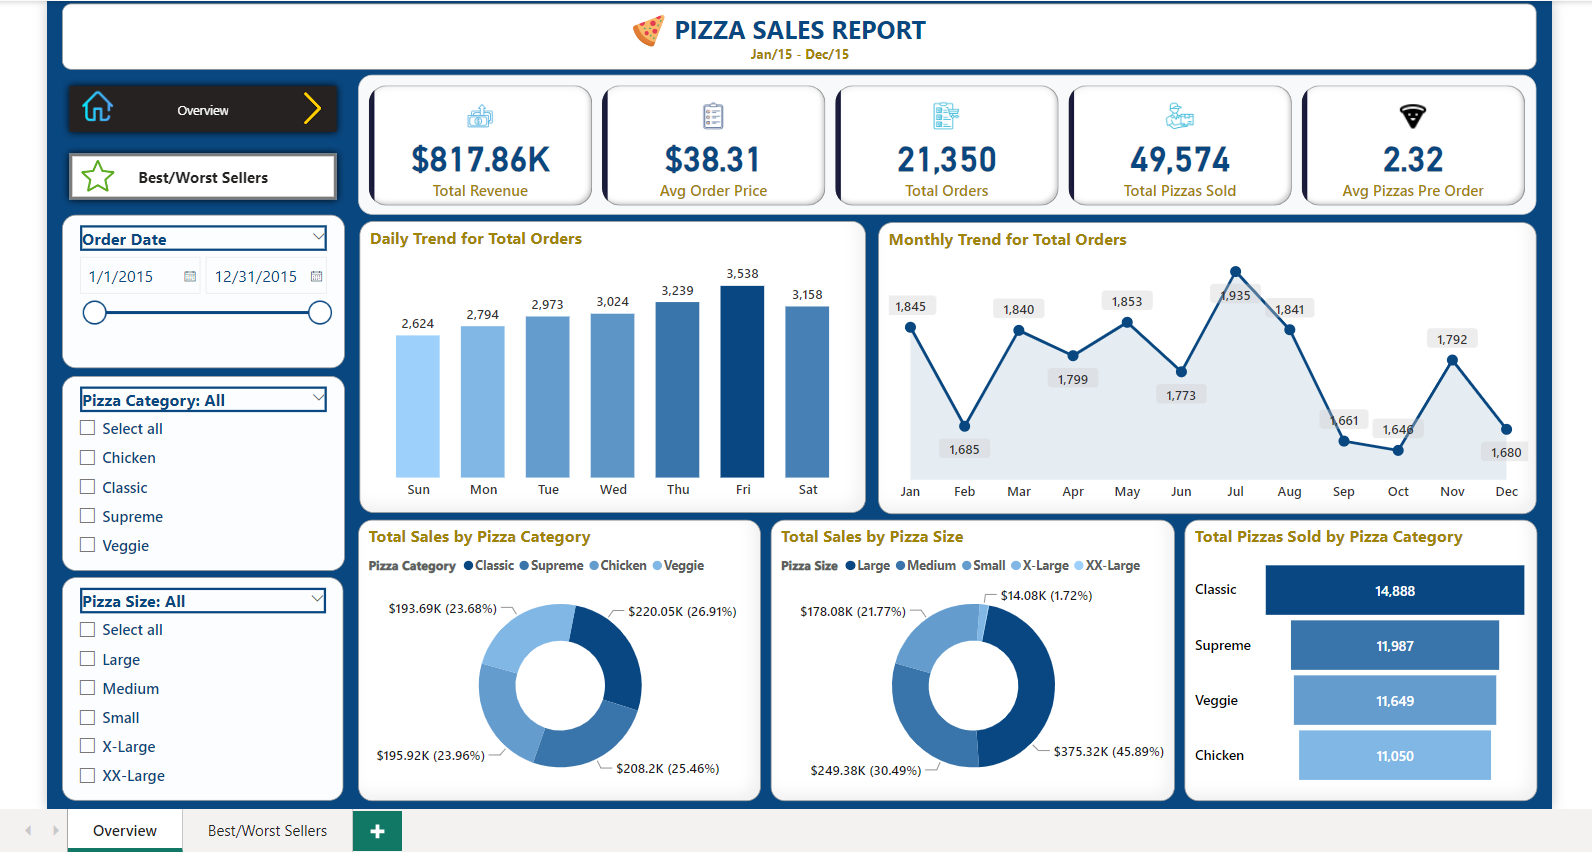

This screenshot's page, from the dashboard's own definition file:
{"tool":"powerbi","page":{"name":"Overview","canvas":[1600,860],"ordinal":0},"visuals":[{"type":"cardVisual","fields":{"Data":["Pizza Sales.Total Revenue","Pizza Sales.Avg Order Price","Pizza Sales.Total Orders","Pizza Sales.Total Pizzas Sold","Pizza Sales.Avg Pizzas Pre Order"]},"box":[331.4,78.8,1252.8,148.9],"z":0},{"type":"image","box":[944.7,264.3,54,45.3],"z":1000},{"type":"textbox","box":[16.1,3,1568.1,70],"z":2000},{"type":"clusteredColumnChart","title":"Daily Trend for Total Orders","fields":{"Category":["Pizza Sales.Order Day"],"Y":["Pizza Sales.Total Orders"]},"box":[332,234,538.2,310],"z":3000},{"type":"areaChart","title":"Monthly Trend for Total Orders","fields":{"Category":["Pizza Sales.Order Month"],"Y":["Pizza Sales.Total Orders"]},"box":[884,234.7,700,310],"z":4000},{"type":"donutChart","title":"Total Sales by Pizza Category","fields":{"Category":["Pizza Sales.Pizza Category"],"Y":["Pizza Sales.Total Revenue"]},"box":[331.4,551.9,427.8,299.3],"z":5000},{"type":"donutChart","title":"Total Sales by Pizza Size","fields":{"Category":["Pizza Sales.Pizza Size"],"Y":["Pizza Sales.Total Revenue"]},"box":[769.5,551.9,429.3,299.3],"z":6000},{"type":"funnel","title":"Total Pizzas Sold by Pizza Category","fields":{"Category":["Pizza Sales.Pizza Category"],"Y":["Pizza Sales.Total Pizzas Sold"]},"box":[1209,551.9,375.2,299.3],"z":7000},{"type":"slicer","fields":{"Values":["Pizza Sales.Pizza Category"]},"box":[16.1,398.6,300.8,207.3],"z":8000},{"type":"slicer","fields":{"Values":["Pizza Sales.Pizza Size"]},"box":[16.1,613.2,299.3,238],"z":9000},{"type":"slicer","fields":{"Values":["Pizza Sales.Order Date"]},"box":[16.1,227.8,300.8,163.5],"z":10000},{"type":"pageNavigator","box":[16.1,154,300,65],"z":11000},{"type":"pageNavigator","title":"Overview","box":[16.1,81.8,300.8,65.7],"z":12000},{"type":"image","box":[24.8,163.5,56.9,45.3],"z":13000},{"type":"image","box":[27.7,90.5,51.1,42.3],"z":14000},{"type":"image","box":[257,92,51.1,43.8],"z":15000},{"type":"image","box":[613.2,8.8,54,45.3],"z":16000}]}

Visuals, with their boxes in screenshot pixels (x1, y1, x2, y2):
cardVisual - Pizza Sales.Total Revenue x Pizza Sales.Avg Order Price: rect(355, 70, 1538, 211)
image: rect(934, 246, 985, 288)
textbox: rect(57, 0, 1538, 65)
"Daily Trend for Total Orders" clusteredColumnChart: rect(355, 217, 863, 510)
"Monthly Trend for Total Orders" areaChart: rect(877, 218, 1538, 510)
"Total Sales by Pizza Category" donutChart: rect(355, 517, 759, 800)
"Total Sales by Pizza Size" donutChart: rect(768, 517, 1174, 800)
"Total Pizzas Sold by Pizza Category" funnel: rect(1184, 517, 1538, 800)
slicer - Pizza Sales.Pizza Category: rect(57, 372, 341, 568)
slicer - Pizza Sales.Pizza Size: rect(57, 575, 339, 800)
slicer - Pizza Sales.Order Date: rect(57, 211, 341, 365)
pageNavigator: rect(57, 141, 340, 203)
"Overview" pageNavigator: rect(57, 73, 341, 135)
image: rect(65, 150, 119, 193)
image: rect(68, 81, 116, 121)
image: rect(284, 83, 332, 124)
image: rect(621, 4, 672, 47)
